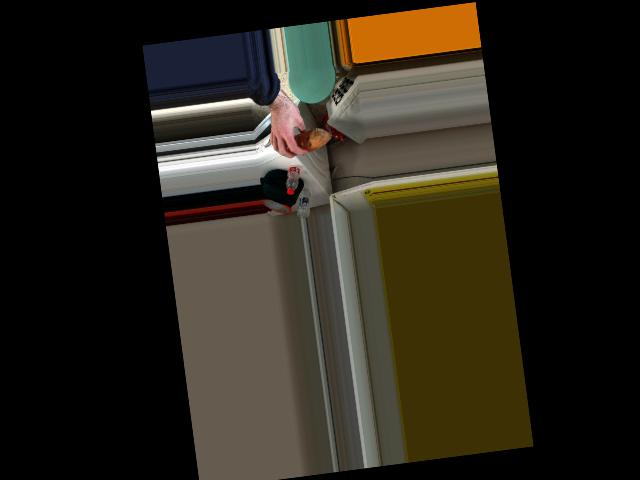sweet_potato: (289, 132, 323, 151)
